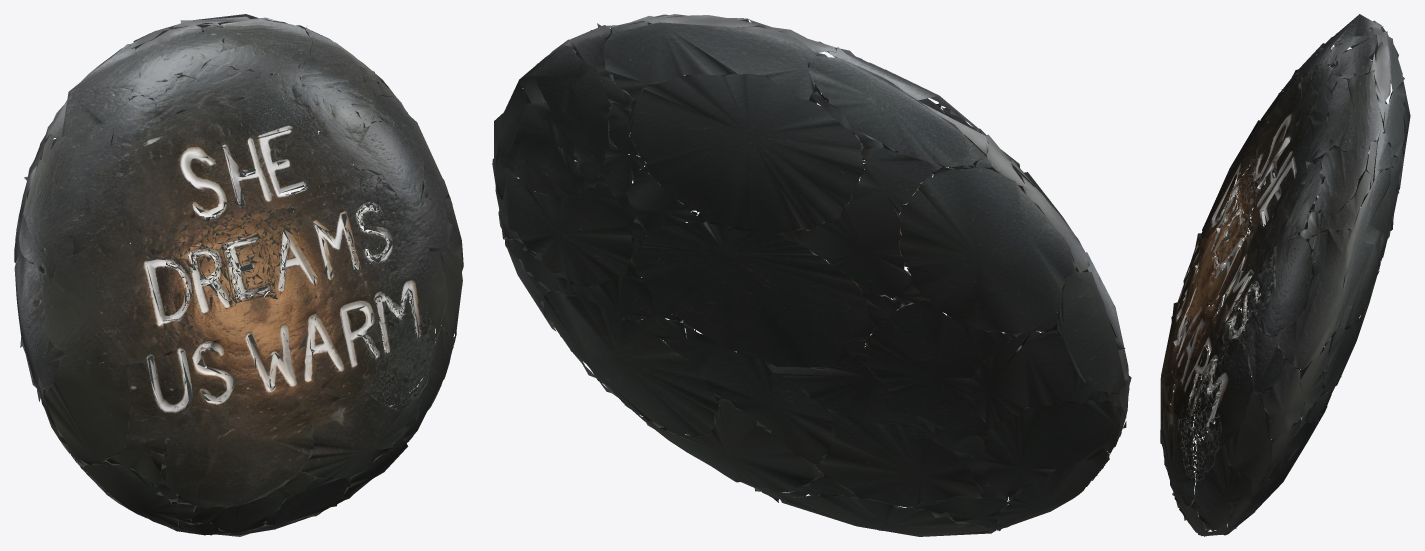
Rendered from drop_prayer_stone.glb.
3 renders of one model, left to right at view 1: azimuth 30°, elevation 25°; view 2: azimuth 150°, elevation 25°; view 3: azimuth 270°, elevation 25°, orthographic. The views are drawn at different scales.
Visible parts, largest first — view 1: node_0; view 2: node_0; view 3: node_0.
Part boxes in pixels (left/top/right/bottom): node_0: left=14, top=14, right=463, bottom=536; node_0: left=492, top=14, right=1131, bottom=536; node_0: left=1160, top=14, right=1410, bottom=536.
Bounding box in the file's own units: 1.18 × 1.1 × 0.5418.
1 material, 1 textured.
